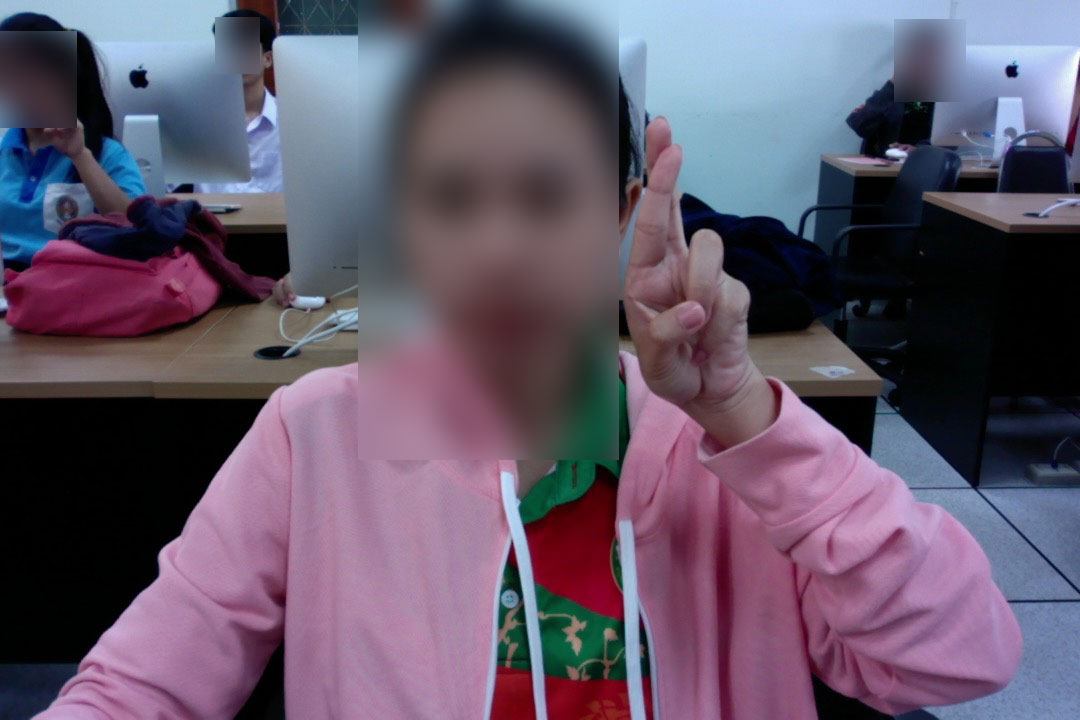rao: (615, 110, 763, 408)
